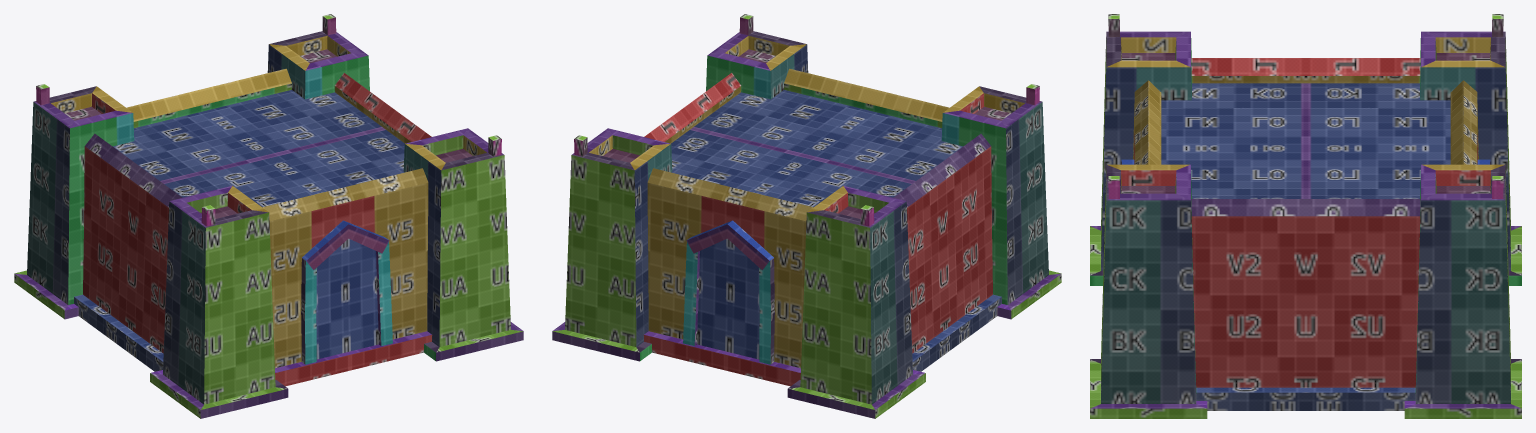
The model's file is palace2 .fbx.
3 renders of one model, left to right at view 1: azimuth 30°, elevation 25°; view 2: azimuth 150°, elevation 25°; view 3: azimuth 270°, elevation 25°, orthographic. The views are drawn at different scales.
Visible parts, largest first — view 1: palace2; view 2: palace2; view 3: palace2.
Boxes of the visible parts, box(x1,y1,x2,y2) form: palace2: box(14, 14, 523, 418); palace2: box(552, 14, 1061, 418); palace2: box(1090, 14, 1521, 418).
Size of the model in its own units: 1647 by 969 by 1647.
